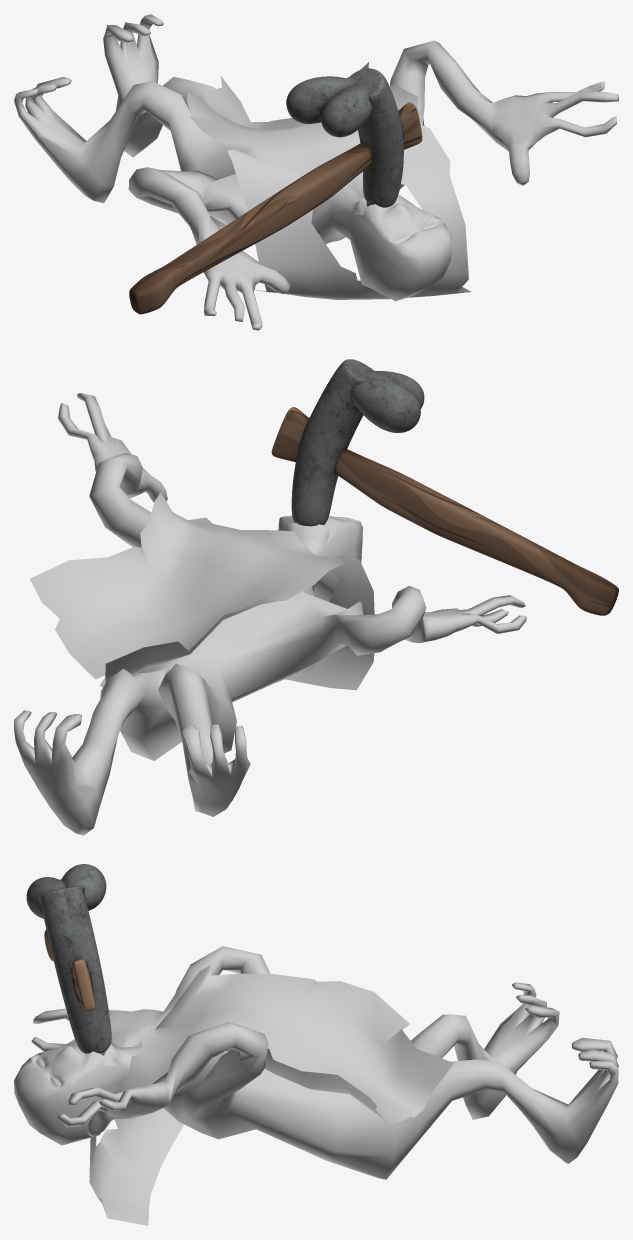
Rendered from SM_ClientDead_001.FBX.
3 renders of one model, top to bottom at view 1: azimuth 30°, elevation 25°; view 2: azimuth 150°, elevation 25°; view 3: azimuth 270°, elevation 25°, orthographic. The views are drawn at different scales.
Parts seen in each view (by area): view 1: SM_ClientDead_001; view 2: SM_ClientDead_001; view 3: SM_ClientDead_001.
Part boxes in pixels (x1=…): SM_ClientDead_001: x1=14, y1=14, x2=618, y2=330; SM_ClientDead_001: x1=14, y1=359, x2=618, y2=835; SM_ClientDead_001: x1=14, y1=864, x2=618, y2=1225.
Size of the model in its own units: 2067 by 1090 by 2124.
